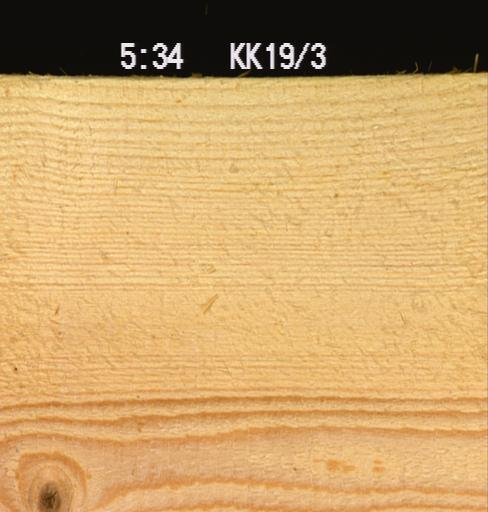edge_knot: (34, 474, 64, 511)
